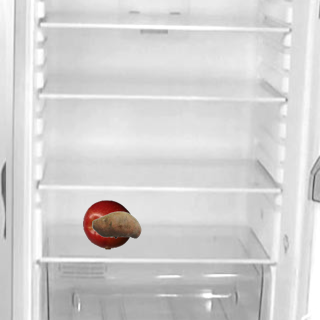Apple Braeburn: (82, 199, 132, 249)
Potato Sweet: (91, 199, 141, 249)
